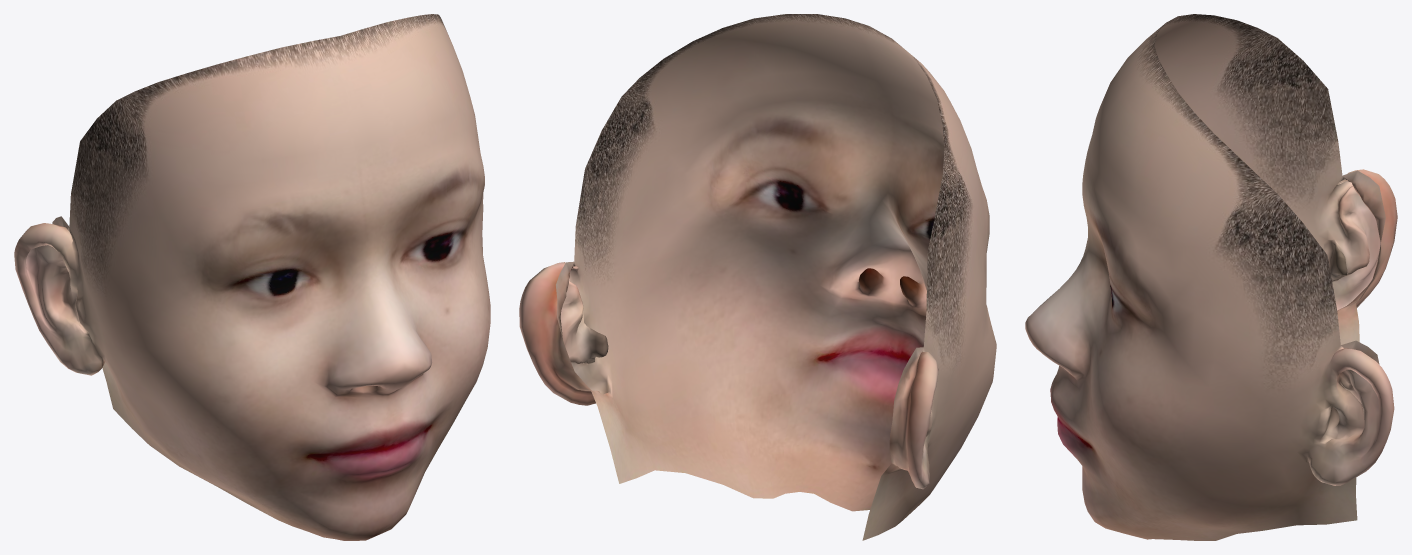
The model's file is Arta_face.fbx.
3 views of the same model, side by side, from view 1: azimuth 30°, elevation 25°; view 2: azimuth 150°, elevation 25°; view 3: azimuth 270°, elevation 25° (orthographic).
Parts seen in each view (by area): view 1: avaturn_body.001; view 2: avaturn_body.001; view 3: avaturn_body.001.
Part boxes in pixels (box(x1,y1,x2,y2)): avaturn_body.001: box(14, 14, 490, 540); avaturn_body.001: box(519, 14, 996, 540); avaturn_body.001: box(1025, 14, 1397, 540).
Bounding box in the file's own units: 17.73 × 20.41 × 14.04.
Materials: 1 (1 with a texture image).
